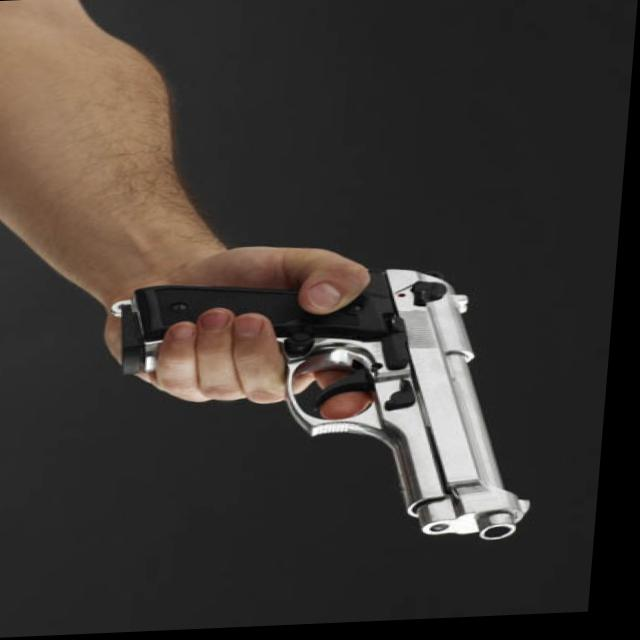handgun: (107, 273, 567, 566)
